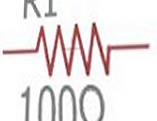resistor: (27, 17, 118, 77)
